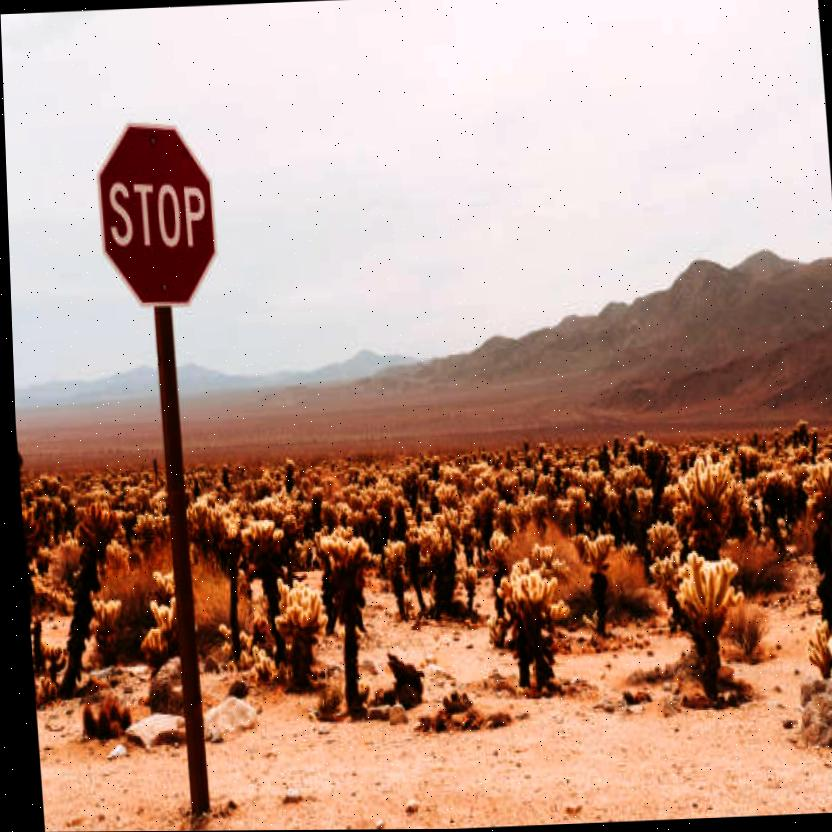Pole: (149, 307, 205, 810)
Sign: (91, 122, 217, 307)
